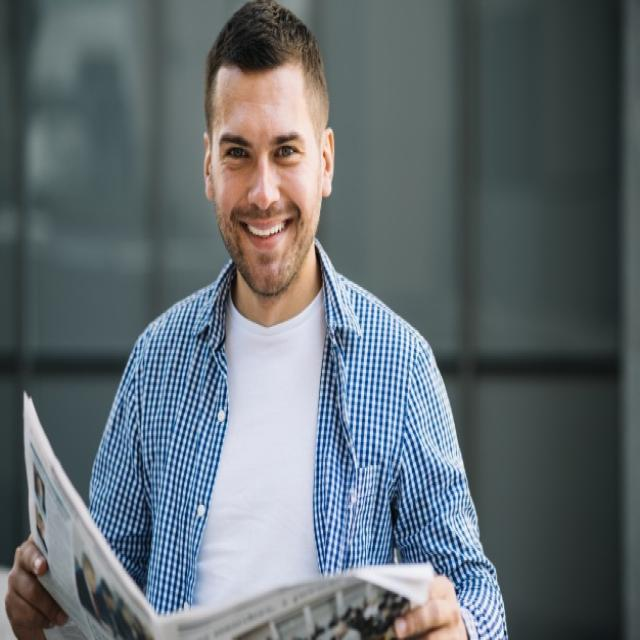human: (28, 2, 521, 640)
